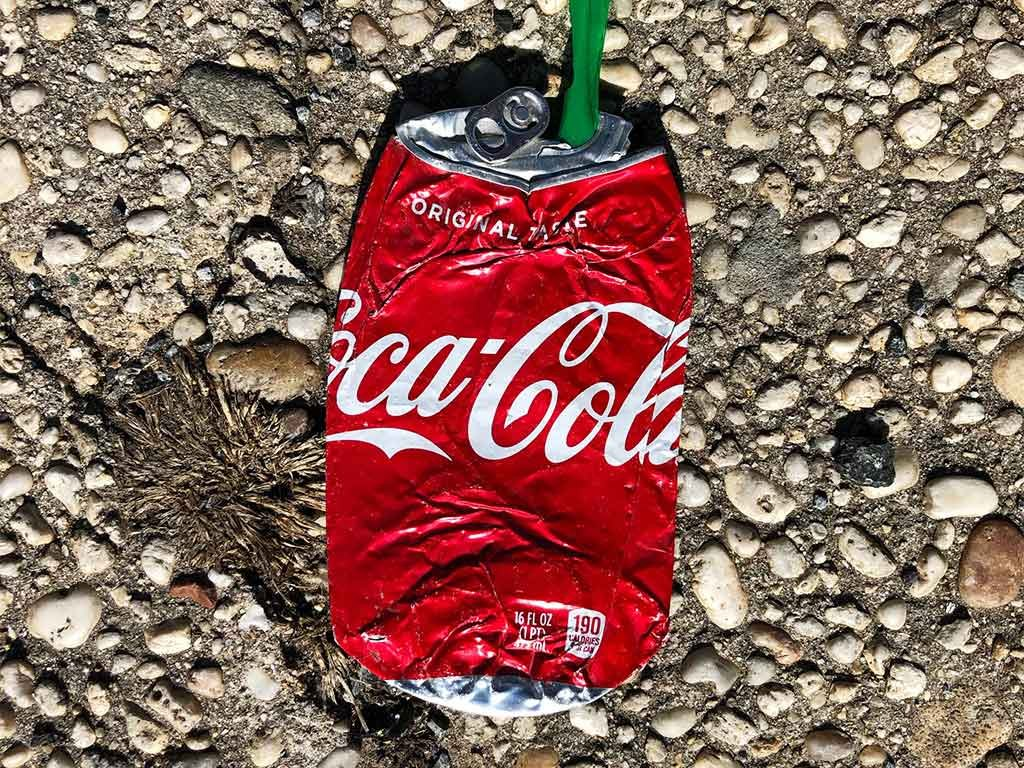can: (326, 85, 698, 718)
